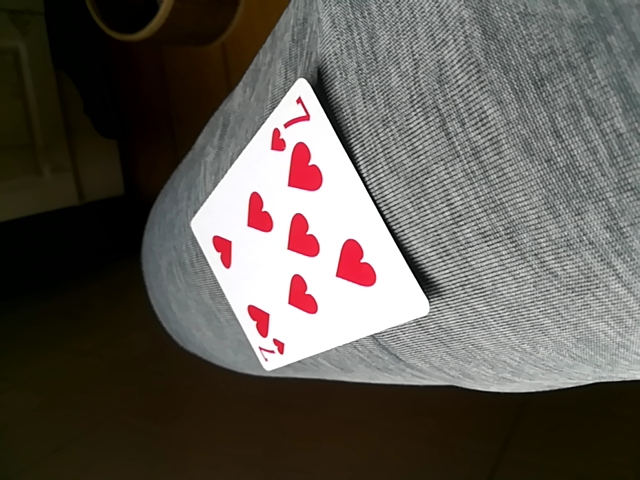hx 7: (189, 78, 429, 378)
